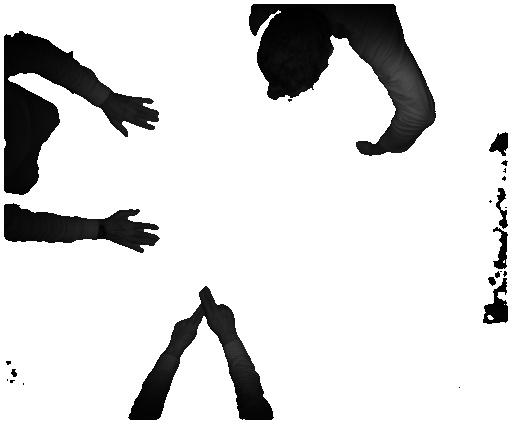fist: (352, 139, 377, 159)
hand: (110, 91, 159, 143), (105, 208, 159, 255), (200, 287, 247, 341), (161, 306, 207, 352)
